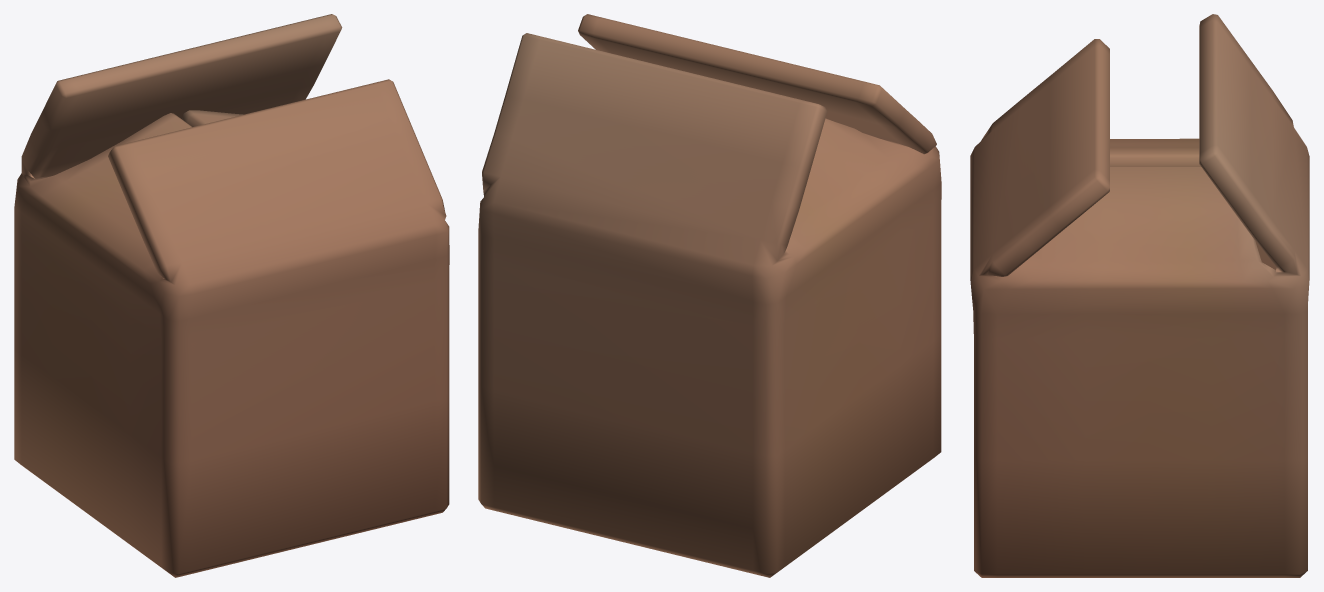
The model's file is HalfClosedBox.fbx.
The picture shows the model from 3 angles, left to right: view 1: azimuth 30°, elevation 25°; view 2: azimuth 150°, elevation 25°; view 3: azimuth 270°, elevation 25°; orthographic projection. The views are drawn at different scales.
Visible parts, largest first — view 1: Cube.006; view 2: Cube.006; view 3: Cube.006.
Boxes of the visible parts, bbox=[...] form: Cube.006: bbox=[14, 14, 449, 577]; Cube.006: bbox=[478, 14, 941, 577]; Cube.006: bbox=[970, 14, 1309, 577].
Bounding box in the file's own units: 2.04 × 2.83 × 2.03.
